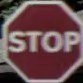Stop: (3, 4, 80, 73)
